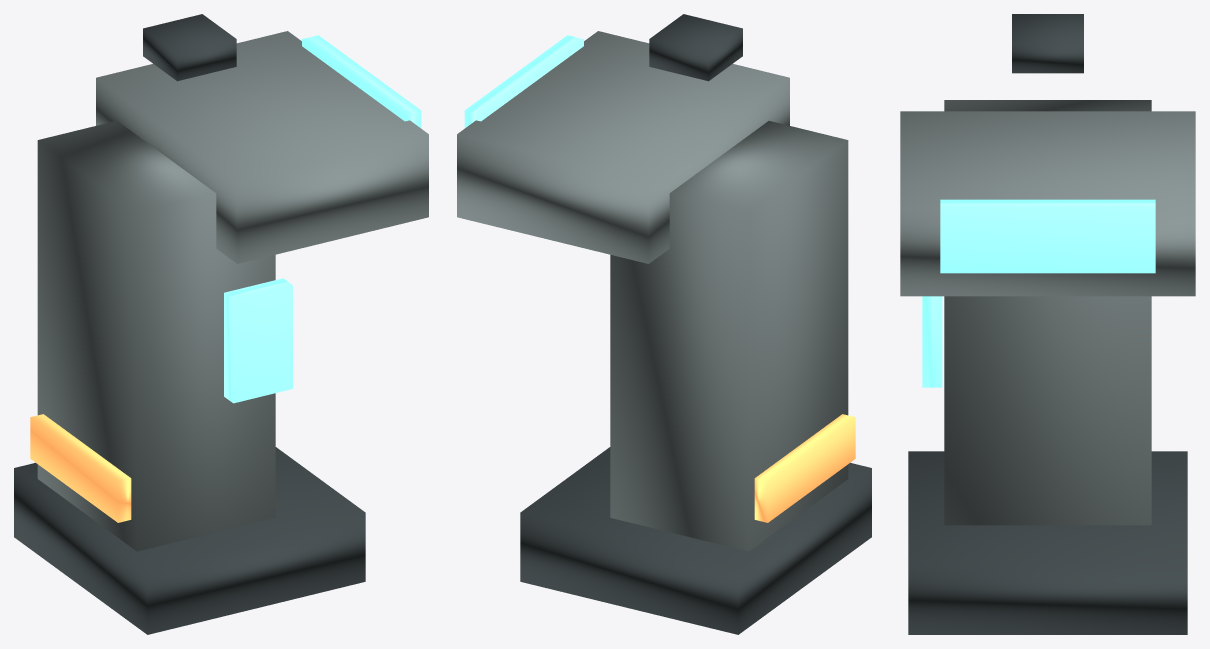
The model's file is interactable-control-terminal-lod1.glb.
The picture shows the model from 3 angles, left to right: view 1: azimuth 30°, elevation 25°; view 2: azimuth 150°, elevation 25°; view 3: azimuth 270°, elevation 25°; orthographic projection. The views are drawn at different scales.
Parts seen in each view (by area): view 1: interactable-control-column, interactable-control-console, interactable-control-base, interactable-control-side-status, interactable-control-hazard-band, objective-beacon-mount, interactable-control-screen; view 2: interactable-control-column, interactable-control-console, interactable-control-base, interactable-control-hazard-band, objective-beacon-mount, interactable-control-screen; view 3: interactable-control-column, interactable-control-console, interactable-control-base, interactable-control-screen, objective-beacon-mount, interactable-control-side-status.
Part boxes in pixels (x1,y1,x2,y2): interactable-control-column: (37, 121, 275, 551); interactable-control-console: (96, 31, 428, 263); interactable-control-base: (14, 447, 365, 634); interactable-control-side-status: (224, 278, 292, 403); interactable-control-hazard-band: (30, 414, 131, 522); objective-beacon-mount: (143, 14, 236, 81); interactable-control-screen: (302, 35, 421, 128); interactable-control-column: (610, 121, 848, 551); interactable-control-console: (457, 31, 789, 263); interactable-control-base: (520, 447, 871, 634); interactable-control-hazard-band: (754, 414, 855, 522); objective-beacon-mount: (649, 14, 742, 81); interactable-control-screen: (464, 35, 583, 128); interactable-control-column: (944, 100, 1151, 525); interactable-control-console: (900, 111, 1195, 296); interactable-control-base: (908, 451, 1187, 634); interactable-control-screen: (940, 199, 1155, 273); objective-beacon-mount: (1012, 14, 1083, 73); interactable-control-side-status: (922, 296, 942, 387).
Bounding box in the file's own units: 0.895 × 1.52 × 0.74.
